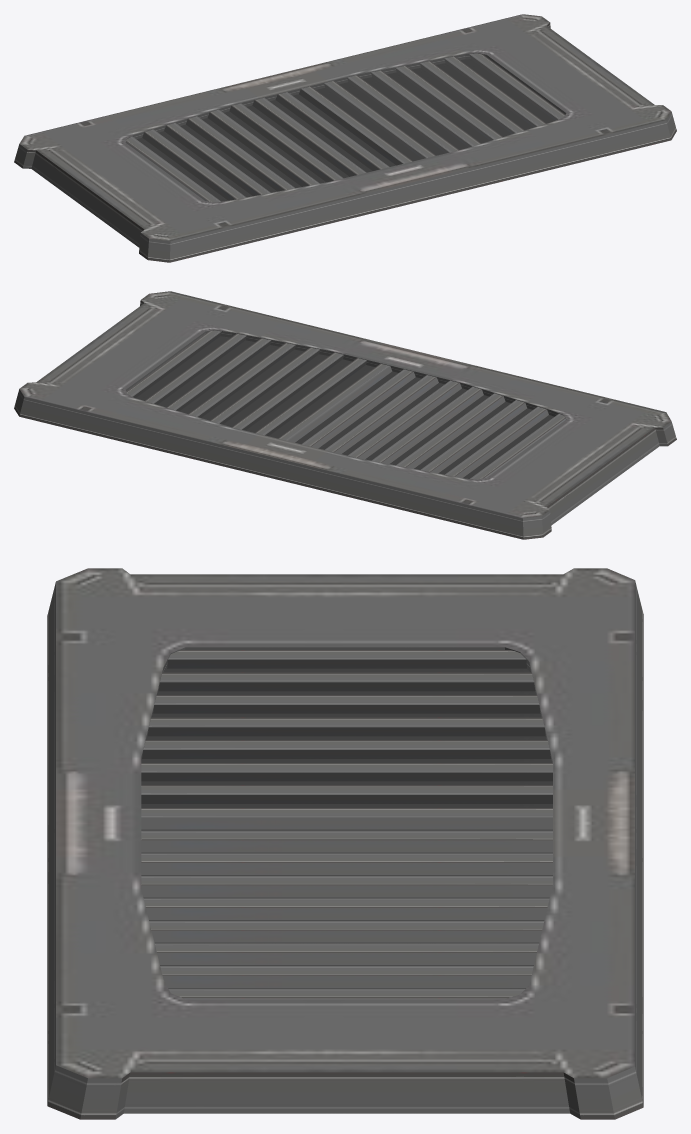
File: vent.glb
3 views of the same model, one above another, from view 1: azimuth 30°, elevation 25°; view 2: azimuth 150°, elevation 25°; view 3: azimuth 270°, elevation 25° (orthographic). The views are drawn at different scales.
Visible parts, largest first — view 1: Prop_Vent_Big; view 2: Prop_Vent_Big; view 3: Prop_Vent_Big.
Part boxes in pixels (left/top/right/bottom): Prop_Vent_Big: left=14, top=14, right=676, bottom=262; Prop_Vent_Big: left=14, top=291, right=676, bottom=539; Prop_Vent_Big: left=47, top=568, right=643, bottom=1119.
Bounding box in the file's own units: 2 × 0.0688 × 0.9764.
Materials: 2 (2 with a texture image).
